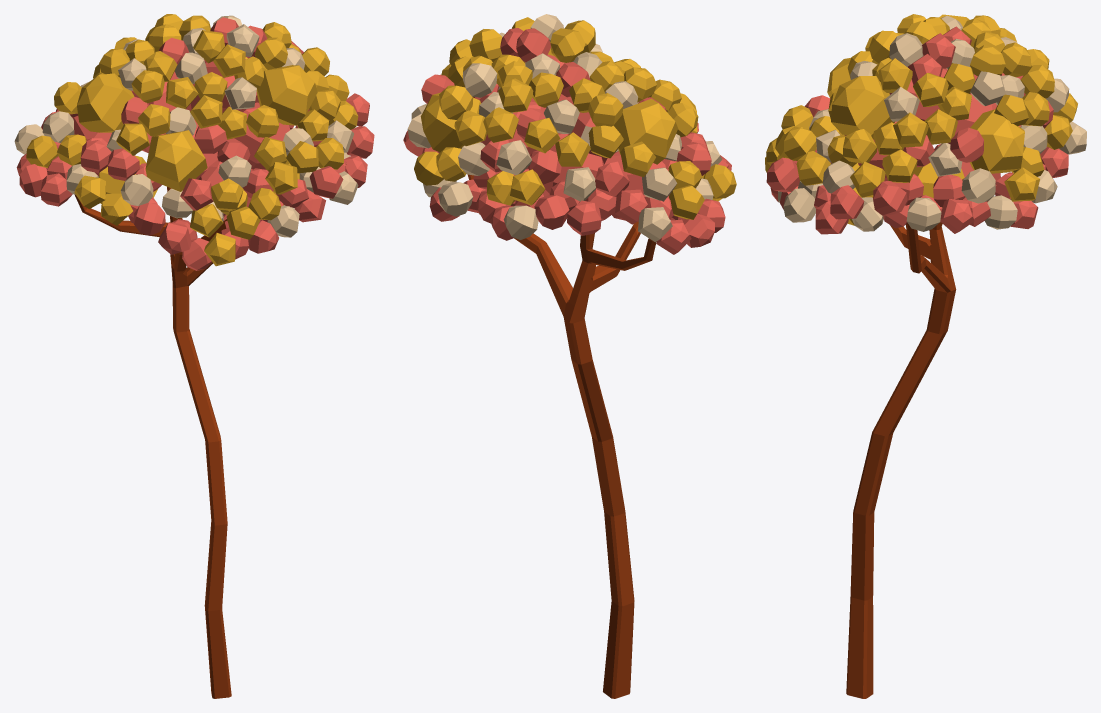
The model's file is Tree_lowpoly.fbx.
3 views of the same model, side by side, from view 1: azimuth 30°, elevation 25°; view 2: azimuth 150°, elevation 25°; view 3: azimuth 270°, elevation 25° (orthographic). The views are drawn at different scales.
Visible parts, largest first — view 1: pCube8; view 2: pCube8; view 3: pCube8.
Part boxes in pixels (box(x1,y1,x2,y2)): pCube8: box(14, 14, 374, 698); pCube8: box(403, 14, 736, 698); pCube8: box(765, 14, 1086, 698).
Size of the model in its own units: 8.7 by 17.35 by 7.4.
